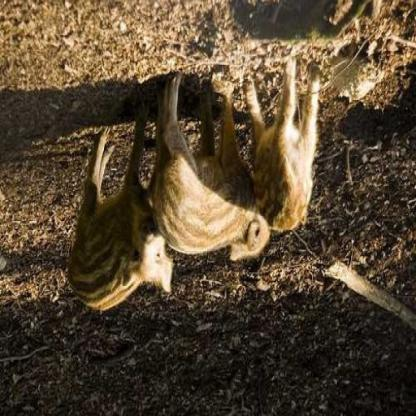boar: (40, 126, 160, 345), (156, 95, 258, 289), (245, 74, 345, 239)
